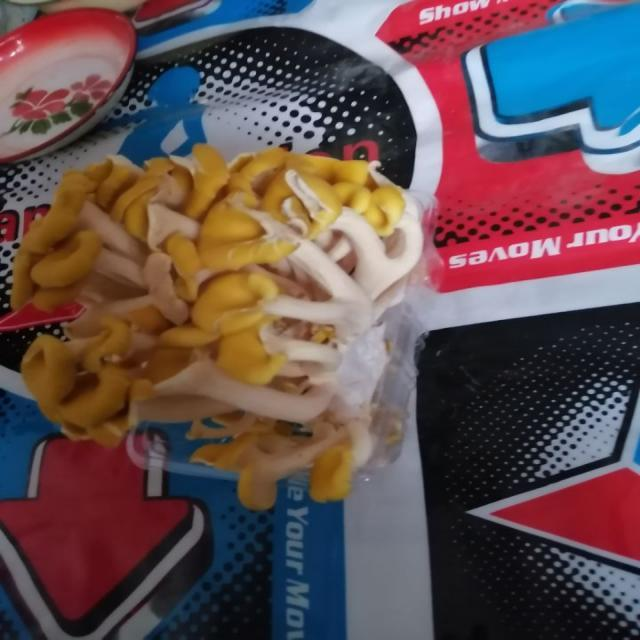Pleurotus citrinopileatus: (20, 145, 426, 511)
